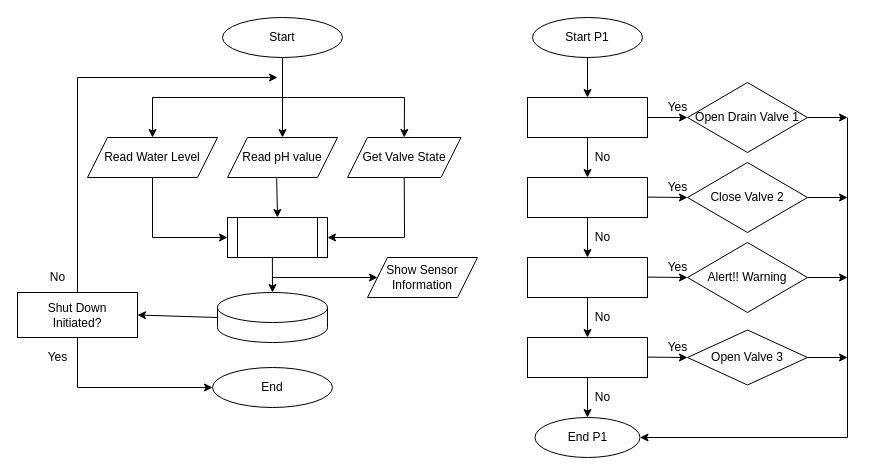
The diagram is 873 pixels wide and 475 high, and some of its shapes have lost their labels. The centre of each missing label's shape, as x and y in pixels:
Database: the point at 272,317
Irrigation Needed?: the point at 587,357
Process P1: the point at 277,237
Water Over Flow at Reservoir 1?: the point at 587,117
Water pH Check: the point at 587,277
Water Shortage in reservoir 2?: the point at 587,197
